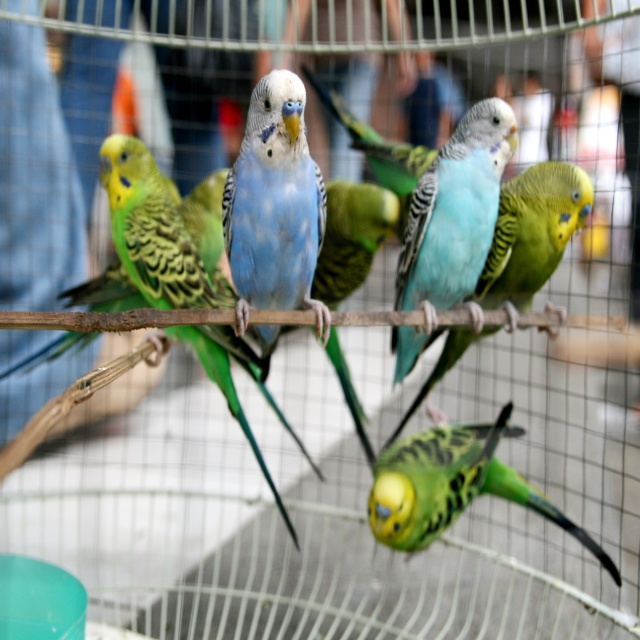Parrot: (2, 60, 623, 589)
